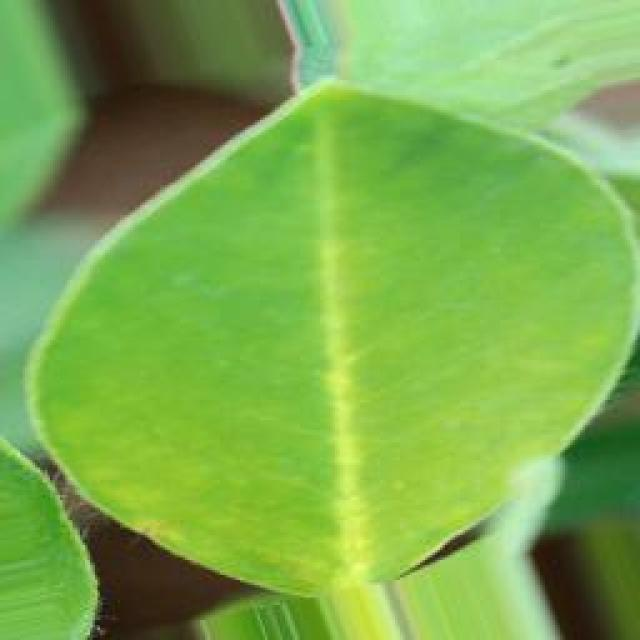Yellow_and_black_sigatoka: (22, 53, 640, 595)
